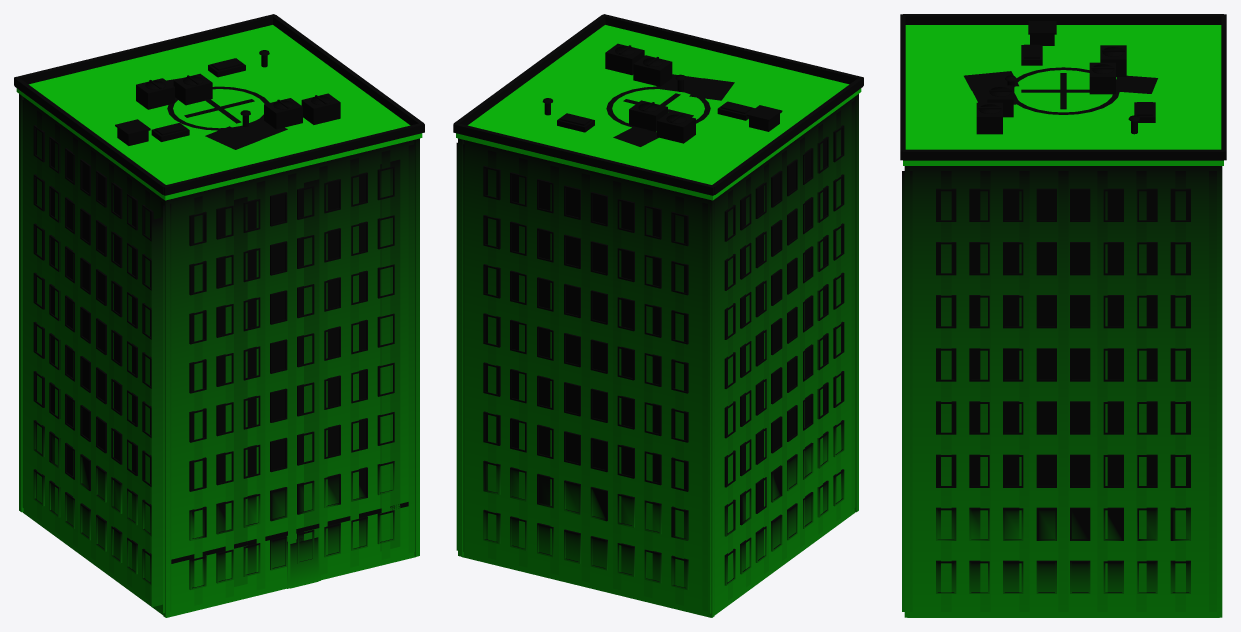
Rendered from city8storyc.glb.
3 renders of one model, left to right at view 1: azimuth 30°, elevation 25°; view 2: azimuth 150°, elevation 25°; view 3: azimuth 270°, elevation 25°, orthographic. The views are drawn at different scales.
Parts seen in each view (by area): view 1: lod0; view 2: lod0; view 3: lod0.
Boxes of the visible parts, x1,y1,x2,y2 form: lod0: [14, 14, 424, 617]; lod0: [453, 14, 863, 617]; lod0: [900, 14, 1226, 617].
Size of what is drawn, in the model's own units: 19.2 by 30.04 by 18.5.
